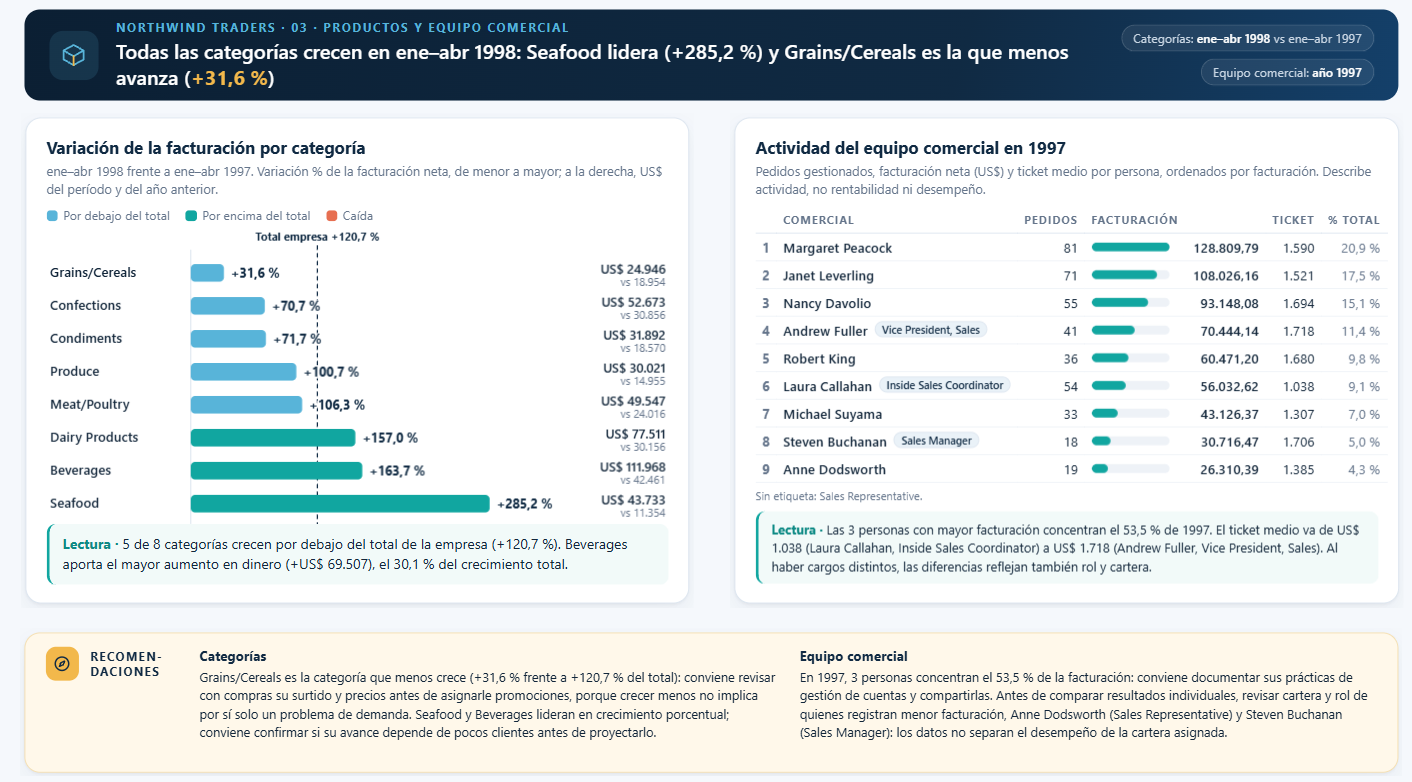

This screenshot's page, from the dashboard's own definition file:
{"tool":"powerbi","page":{"name":"COMERCIAL","canvas":[1280,720],"ordinal":2},"visuals":[{"type":"htmlContent443BE3AD55E043BF878BED274D3A6855","fields":{"content":["!medidasHTML.HTML | P3 Encabezado"]},"box":[10.5,0,1269.8,118.6],"z":0},{"type":"htmlContent443BE3AD55E043BF878BED274D3A6855","fields":{"content":["!medidasHTML.HTML | P3 Categorias"]},"box":[10.7,96.1,634.8,473.4],"z":1},{"type":"htmlContent443BE3AD55E043BF878BED274D3A6855","fields":{"content":["!medidasHTML.HTML | P3 Equipo"]},"box":[645.4,96.5,634.9,473.3],"z":2},{"type":"htmlContent443BE3AD55E043BF878BED274D3A6855","fields":{"content":["!medidasHTML.HTML | P3 Recomendacion"]},"box":[10.5,557,1269.8,162.8],"z":3}]}

Visuals, with their boxes in screenshot pixels (x1, y1, x2, y2), scaled from the page's 1280x720 canvas onto the 1412x782 screenshot:
htmlContent443BE3AD55E043BF878BED274D3A6855 - !medidasHTML.HTML | P3 Encabezado: [x1=12, y1=0, x2=1411, y2=129]
htmlContent443BE3AD55E043BF878BED274D3A6855 - !medidasHTML.HTML | P3 Categorias: [x1=12, y1=104, x2=712, y2=619]
htmlContent443BE3AD55E043BF878BED274D3A6855 - !medidasHTML.HTML | P3 Equipo: [x1=712, y1=105, x2=1411, y2=619]
htmlContent443BE3AD55E043BF878BED274D3A6855 - !medidasHTML.HTML | P3 Recomendacion: [x1=12, y1=605, x2=1411, y2=781]
